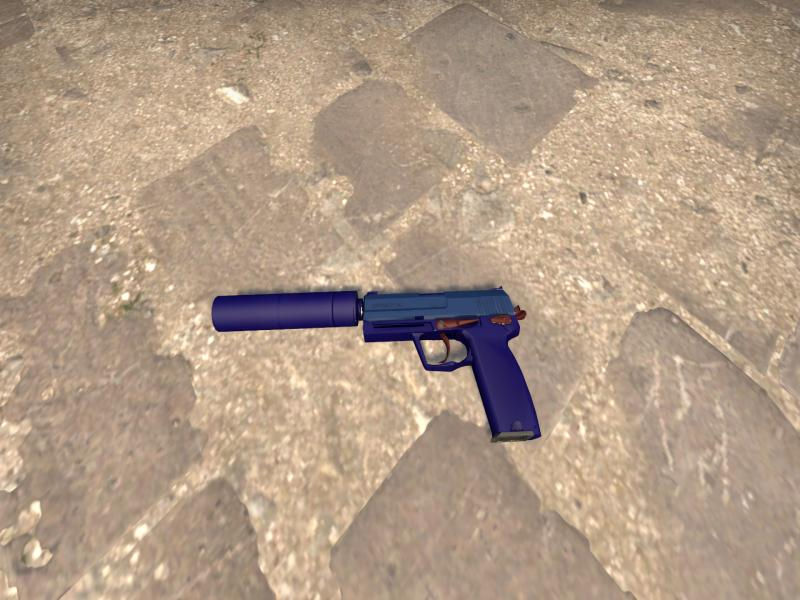USP: (212, 288, 541, 441)
